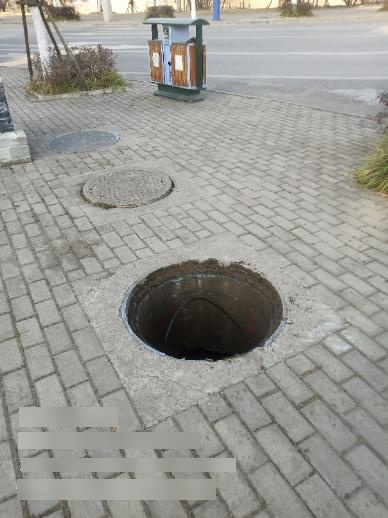good: (81, 165, 174, 210), (43, 128, 119, 156)
lose: (120, 256, 290, 364)
